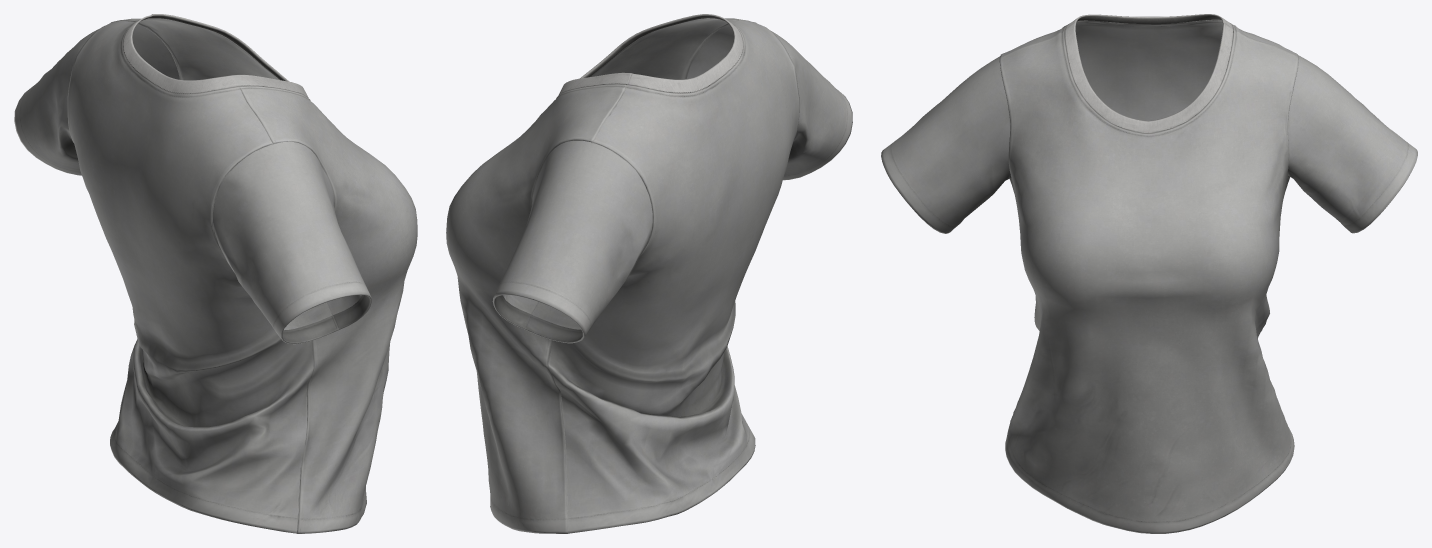
Rendered from jersey-mujer.glb.
3 views of the same model, side by side, from view 1: azimuth 30°, elevation 25°; view 2: azimuth 150°, elevation 25°; view 3: azimuth 270°, elevation 25° (orthographic). The views are drawn at different scales.
Visible parts, largest first — view 1: Object_2; view 2: Object_2; view 3: Object_2.
Boxes of the visible parts, left/top/right/bottom form: Object_2: left=14, top=14, right=417, bottom=533; Object_2: left=446, top=14, right=852, bottom=533; Object_2: left=881, top=14, right=1417, bottom=533.
Bounding box in the file's own units: 0.5156 × 0.9271 × 1.03.
Materials: 1 (1 with a texture image).
